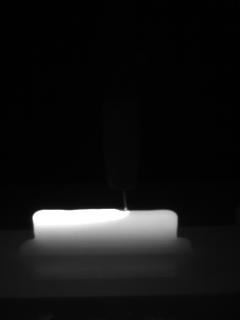tip_wire_left: (106, 184, 127, 210)
tip_wire_right: (124, 184, 137, 211)
